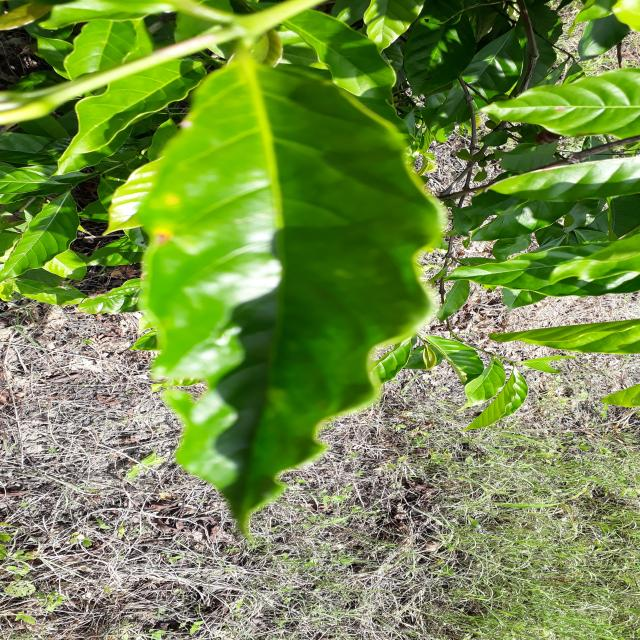Enfermedad-Roya: (106, 46, 449, 538)
